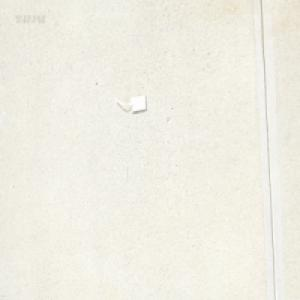LuggageTag: (113, 93, 147, 113)
